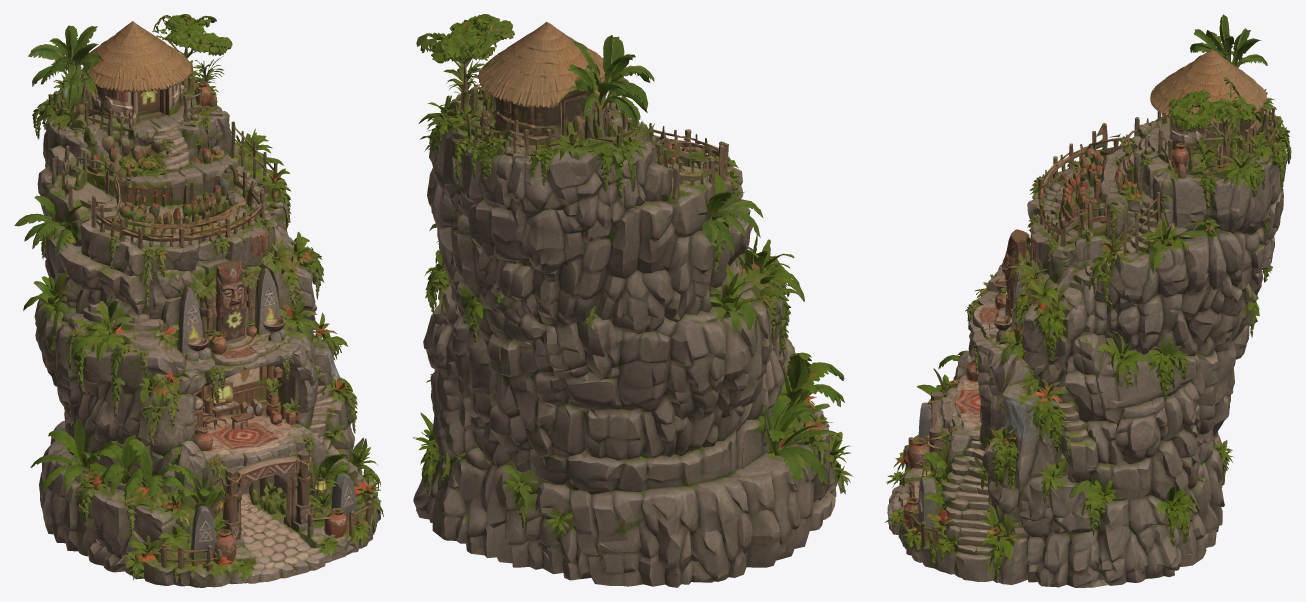
The picture shows the model from 3 angles, left to right: view 1: azimuth 30°, elevation 25°; view 2: azimuth 150°, elevation 25°; view 3: azimuth 270°, elevation 25°; orthographic projection. The views are drawn at different scales.
Visible parts, largest first — view 1: output_unwrapped; view 2: output_unwrapped; view 3: output_unwrapped.
Part boxes in pixels (<box>): output_unwrapped: <box>14,14,383,587</box>; output_unwrapped: <box>413,14,852,587</box>; output_unwrapped: <box>885,14,1291,587</box>.
Bounding box in the file's own units: 1.41 × 1.91 × 1.52.
Materials: 1 (1 with a texture image).
